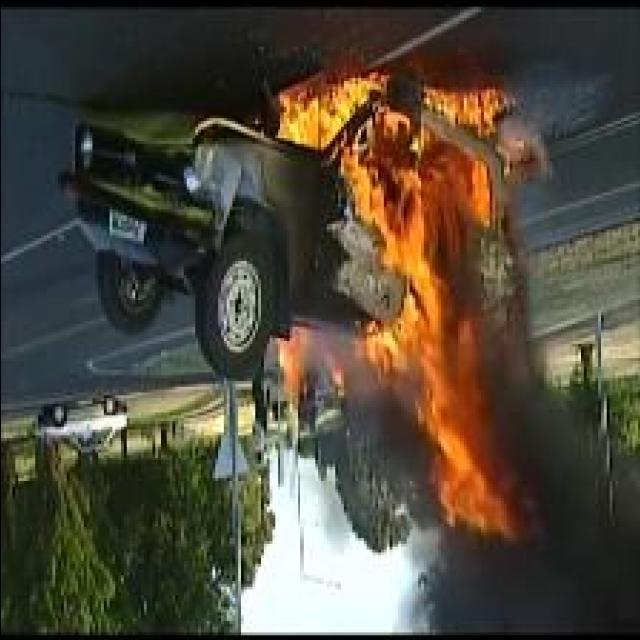Fire: (273, 66, 533, 543)
